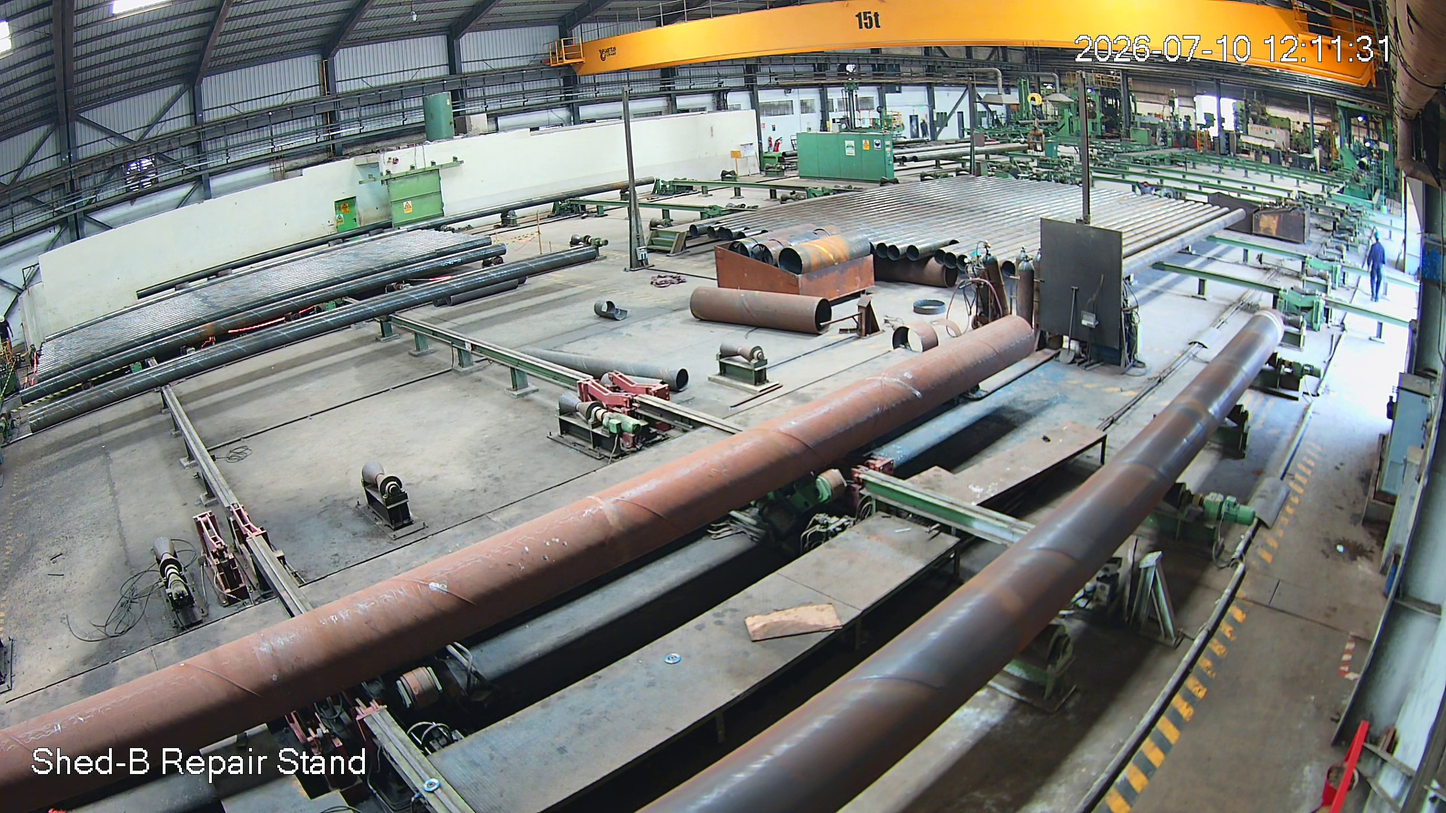Helmet: (1374, 231, 1381, 245)
Person: (1364, 232, 1384, 302)
